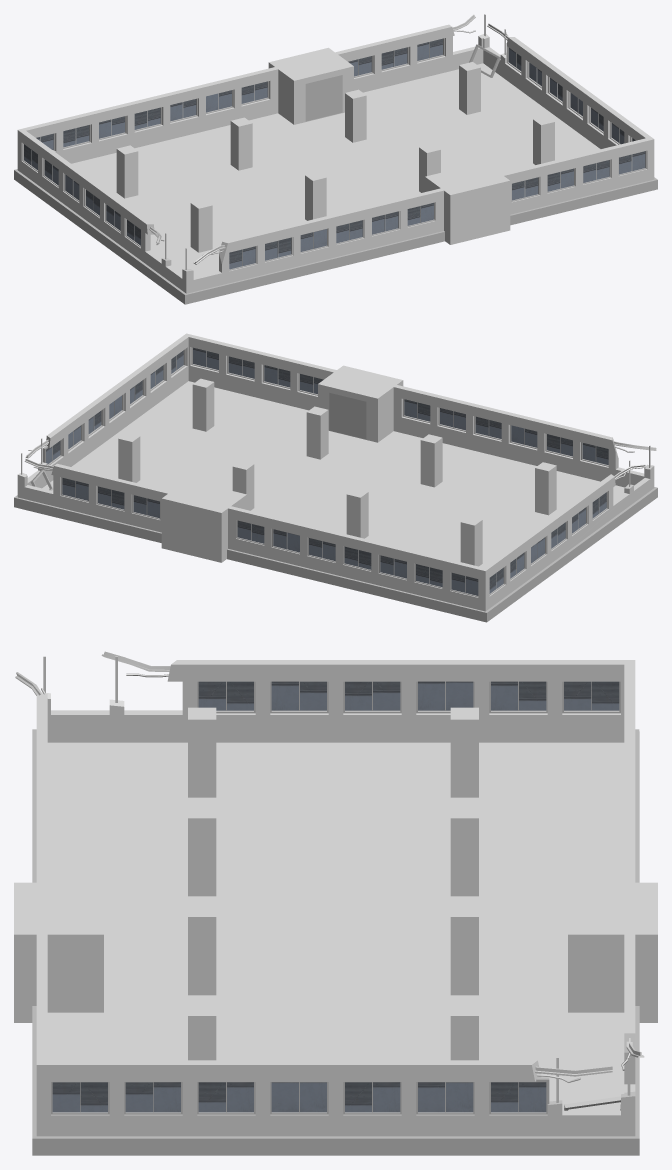
The model's file is Ruin3C_LOD0.fbx.
3 views of the same model, one above another, from view 1: azimuth 30°, elevation 25°; view 2: azimuth 150°, elevation 25°; view 3: azimuth 270°, elevation 25° (orthographic). The views are drawn at different scales.
Visible parts, largest first — view 1: polySurface1389; view 2: polySurface1389; view 3: polySurface1389.
Boxes of the visible parts, x1,y1,x2,y2 form: polySurface1389: [14, 14, 657, 304]; polySurface1389: [14, 333, 657, 622]; polySurface1389: [14, 651, 657, 1155].
Bounding box in the file's own units: 33.89 × 3.57 × 22.04.
